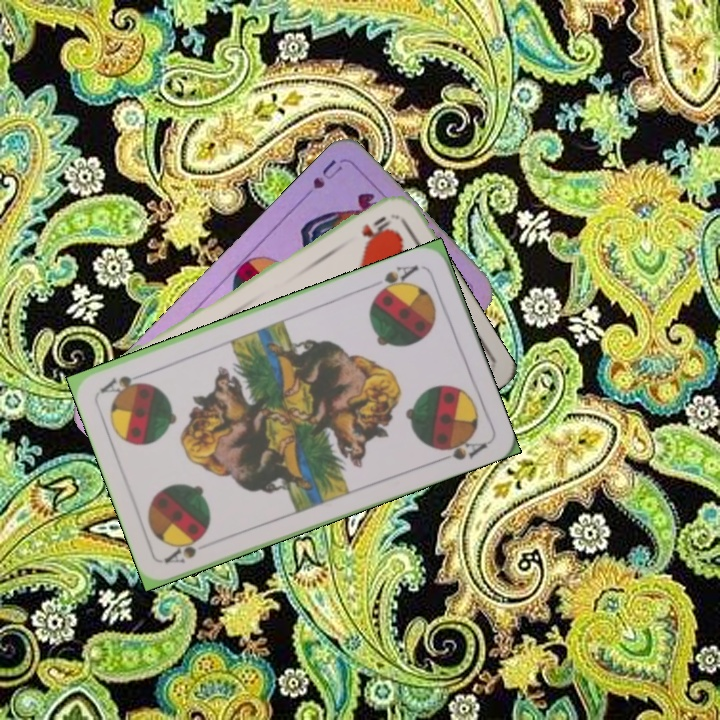HO: (357, 212, 395, 241)
SA: (371, 261, 421, 298), (160, 532, 208, 567)
SU: (308, 155, 345, 192)
